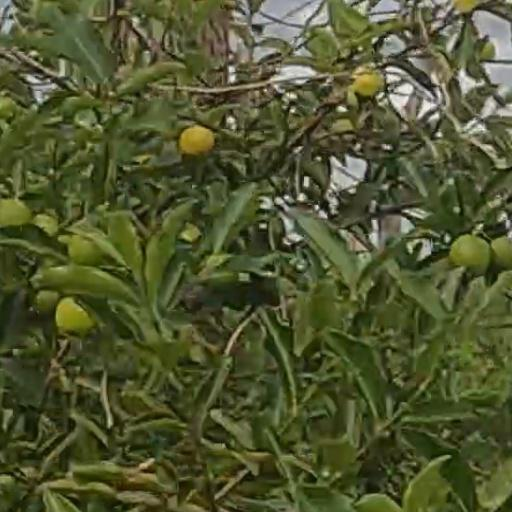acerola_verde: (452, 236, 490, 277), (55, 297, 89, 337), (68, 236, 100, 266), (182, 127, 213, 155), (356, 69, 382, 95), (492, 239, 512, 269)
